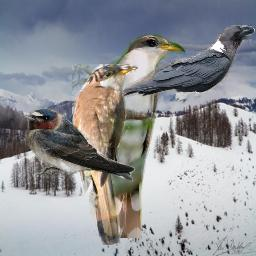Crow: (121, 25, 255, 98)
Cuckoo: (103, 33, 186, 238), (72, 64, 138, 245)
Swallow: (22, 107, 136, 182)
